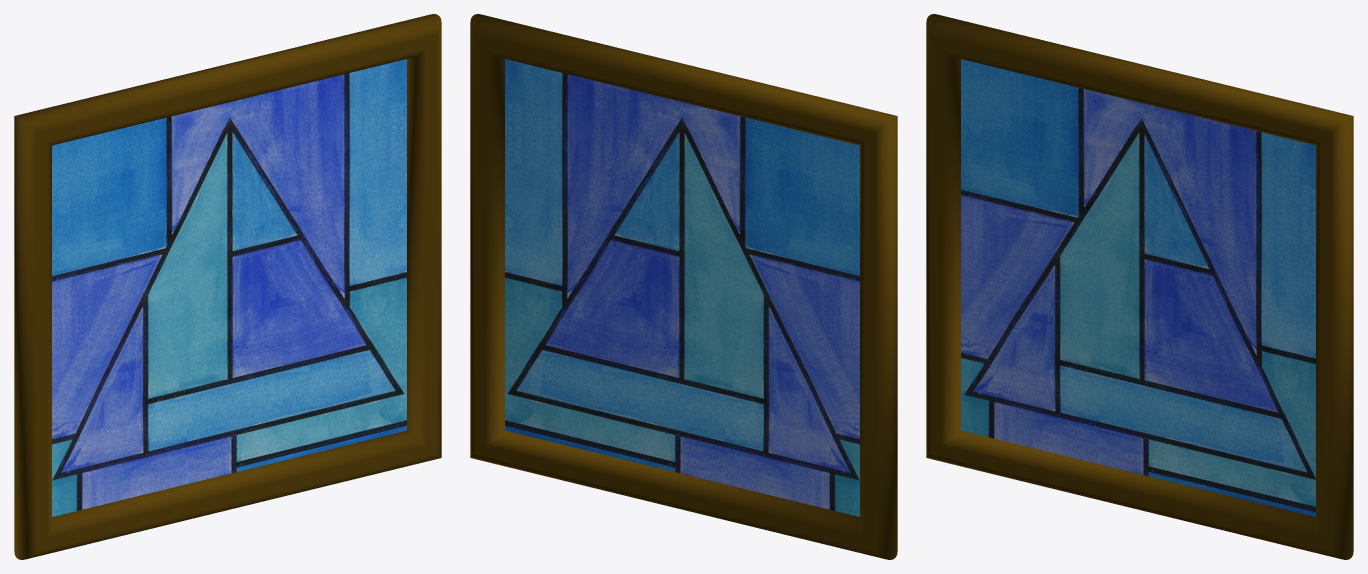
The model's file is blueImage.fbx.
3 views of the same model, side by side, from view 1: azimuth 30°, elevation 25°; view 2: azimuth 150°, elevation 25°; view 3: azimuth 330°, elevation 25° (orthographic).
Parts seen in each view (by area): view 1: Bild, Ramen; view 2: Bild, Ramen; view 3: Bild, Ramen.
Boxes of the visible parts, box(x1,y1,x2,y2) form: Bild: box(52, 59, 406, 516); Ramen: box(14, 14, 441, 559); Bild: box(505, 59, 859, 516); Ramen: box(470, 14, 897, 559); Bild: box(961, 59, 1315, 516); Ramen: box(926, 14, 1353, 559).
Bounding box in the file's own units: 424 × 424 × 30.
